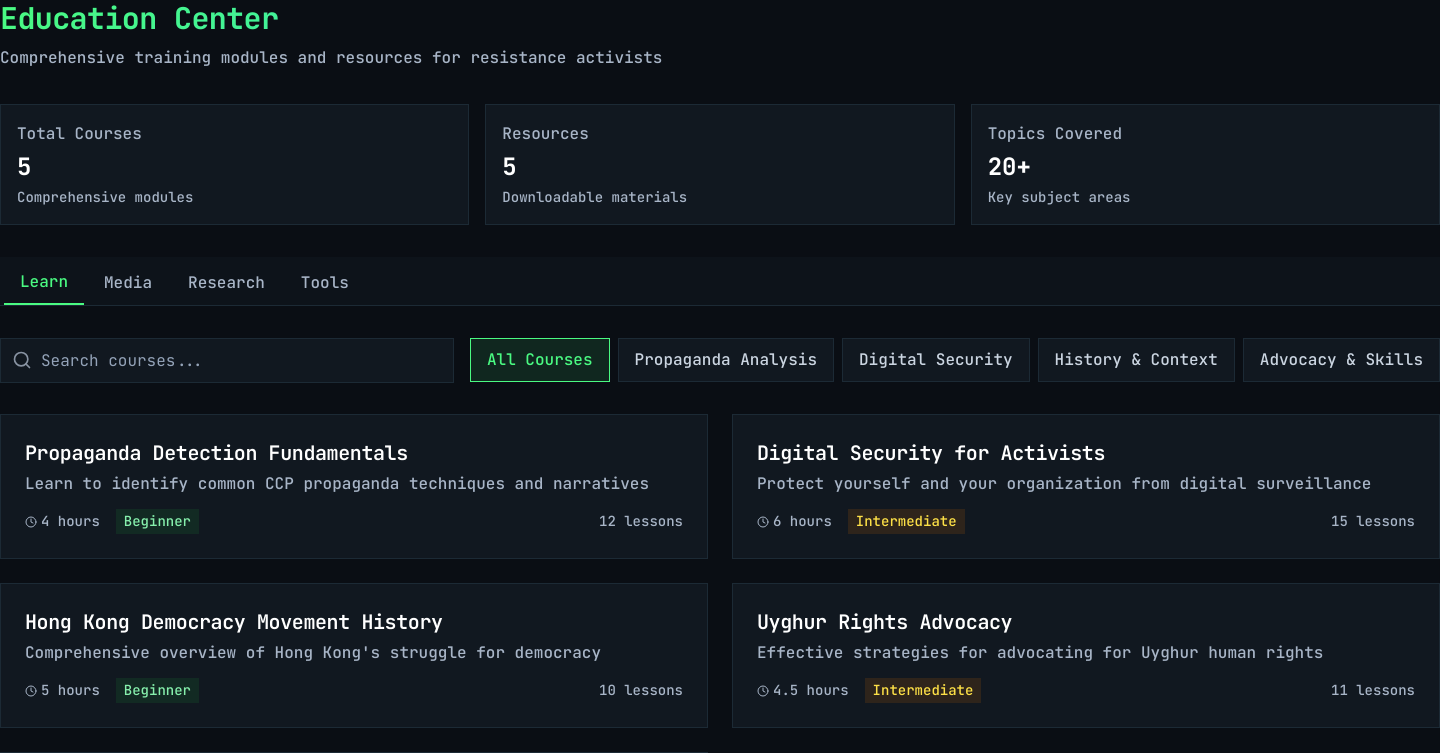
Scenario: EducationalResources › filters modules by category
Click the button "Propaganda Analysis" at (726, 360), box [618,338,834,382]
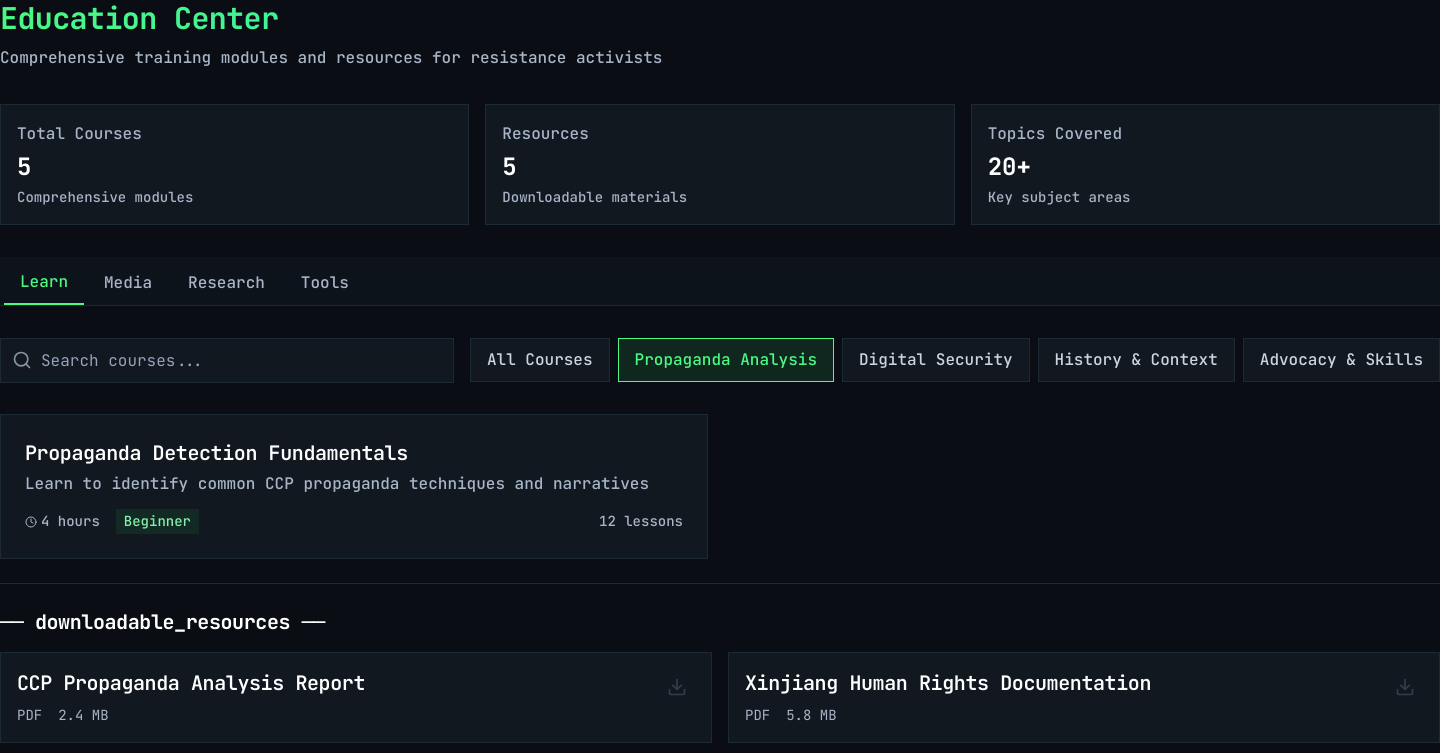
Expected: the heading "Propaganda Detection Fundamentals" is shown, [25,440,408,466]
Result: the button "Digital Security for Activists" is gone
